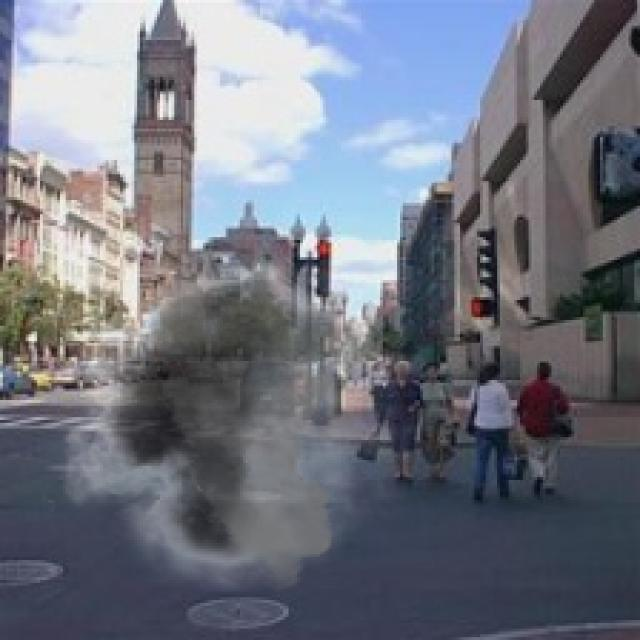smoke: (43, 240, 437, 591)
